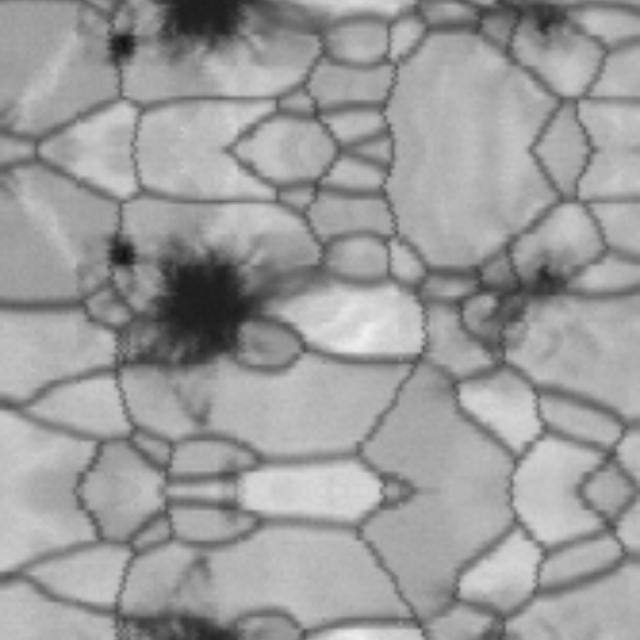good_void: (100, 217, 287, 376), (457, 235, 615, 388), (117, 0, 287, 81), (457, 0, 609, 63), (470, 592, 594, 640), (156, 376, 234, 432), (156, 548, 234, 604), (95, 228, 151, 274), (95, 24, 151, 70)
